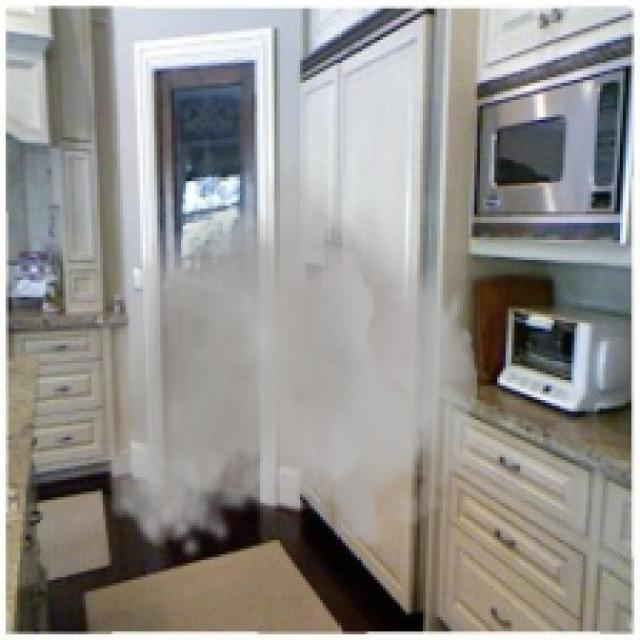Smoke: (106, 145, 477, 560)
